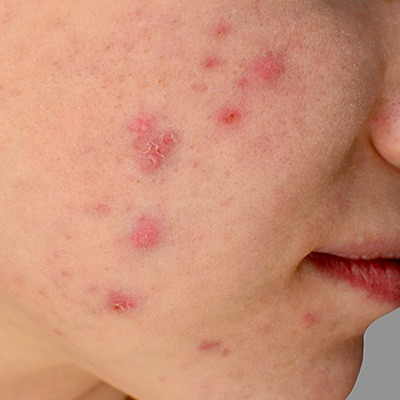Acne: (127, 114, 181, 178), (103, 284, 141, 326)
